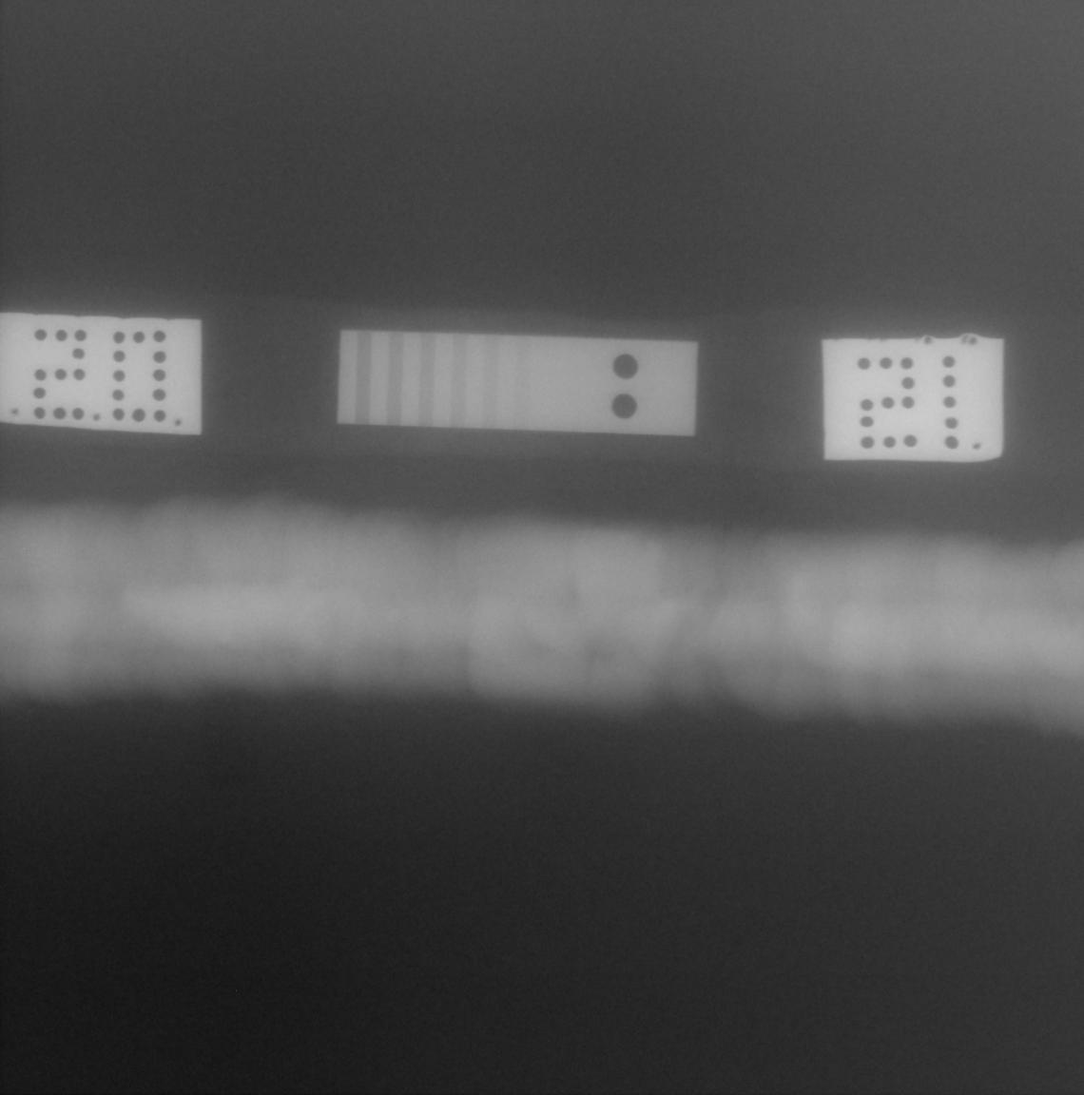Reference Standard 2: (337, 330, 699, 436)
